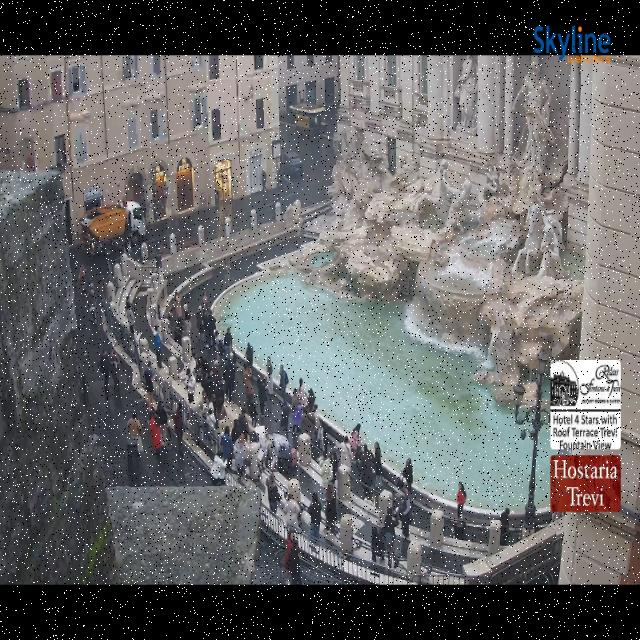person: (384, 508, 399, 568), (312, 405, 326, 457), (360, 444, 373, 497), (128, 412, 143, 456), (234, 432, 248, 477), (308, 493, 321, 541), (325, 482, 337, 534), (149, 411, 162, 458), (220, 425, 234, 467), (400, 484, 411, 537), (289, 540, 302, 584), (172, 406, 183, 456), (268, 472, 281, 514), (156, 402, 167, 450), (98, 351, 110, 395), (224, 359, 236, 402), (211, 453, 227, 485), (284, 531, 295, 577), (284, 495, 299, 528), (214, 383, 227, 419), (340, 436, 353, 471), (144, 362, 154, 407), (320, 458, 332, 495), (204, 409, 217, 442), (243, 366, 253, 408), (257, 376, 267, 417), (372, 528, 384, 562), (201, 372, 215, 401), (204, 310, 214, 349), (350, 424, 361, 459), (197, 392, 213, 416), (500, 508, 510, 545), (89, 279, 97, 325), (154, 325, 162, 369), (301, 413, 315, 438), (329, 450, 339, 483), (195, 356, 210, 378), (297, 378, 307, 411), (375, 442, 382, 488), (111, 350, 119, 390), (238, 409, 249, 438), (453, 513, 465, 539), (215, 330, 226, 358), (457, 483, 466, 517), (186, 369, 195, 403), (210, 360, 222, 385), (280, 400, 290, 430), (292, 403, 302, 432), (248, 397, 257, 428), (403, 458, 412, 489), (280, 365, 288, 399), (196, 306, 203, 341), (184, 303, 191, 337), (267, 357, 273, 396), (174, 318, 183, 344), (231, 419, 240, 445), (127, 306, 135, 335), (224, 328, 232, 357), (174, 295, 182, 323), (80, 265, 87, 296), (307, 389, 315, 411), (213, 330, 221, 352), (224, 259, 230, 288), (292, 390, 299, 414), (246, 343, 253, 367), (277, 168, 283, 189), (262, 170, 267, 193), (202, 291, 207, 309), (126, 296, 131, 311)
